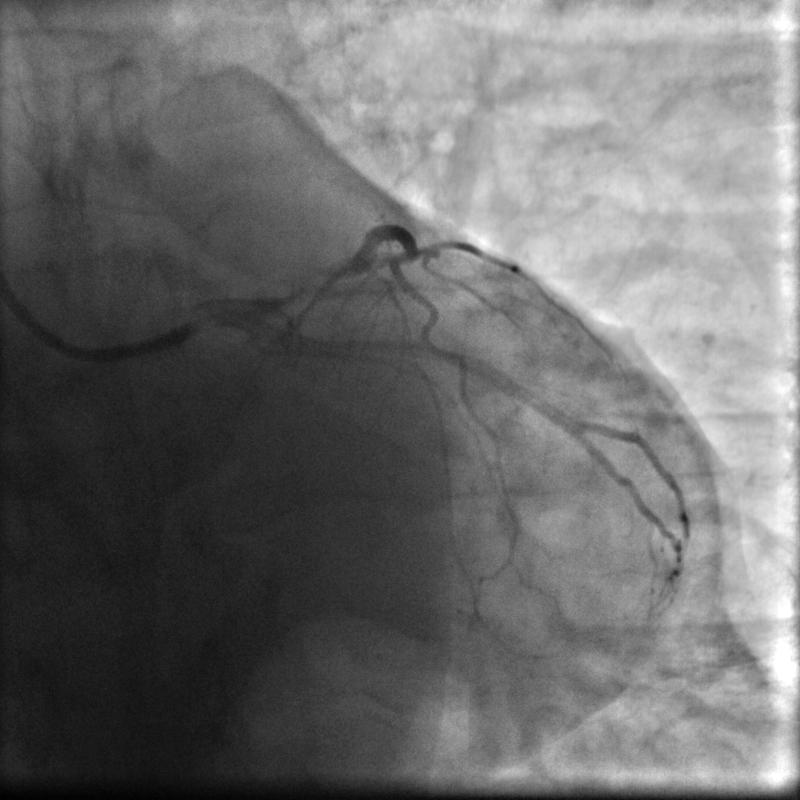Stenosis: (276, 268, 355, 303)
